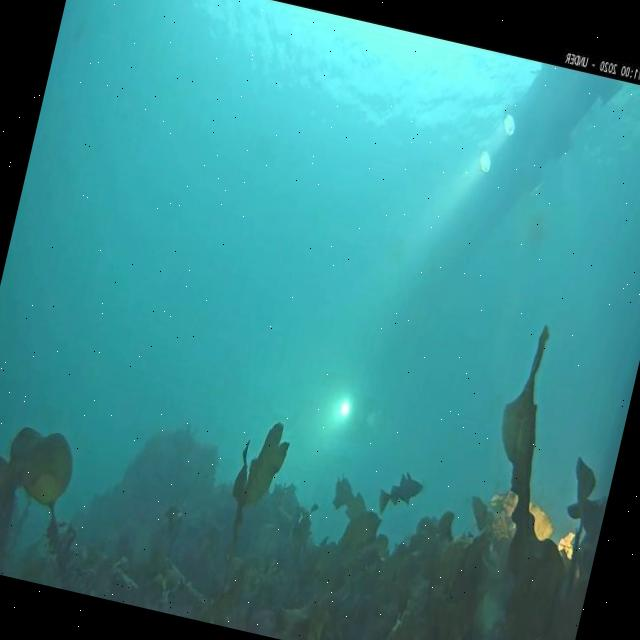fish: (374, 467, 426, 521)
